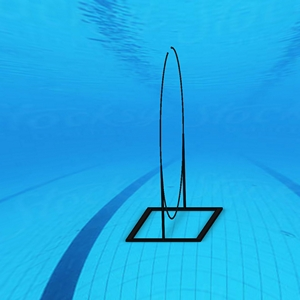circle: (125, 44, 226, 244)
